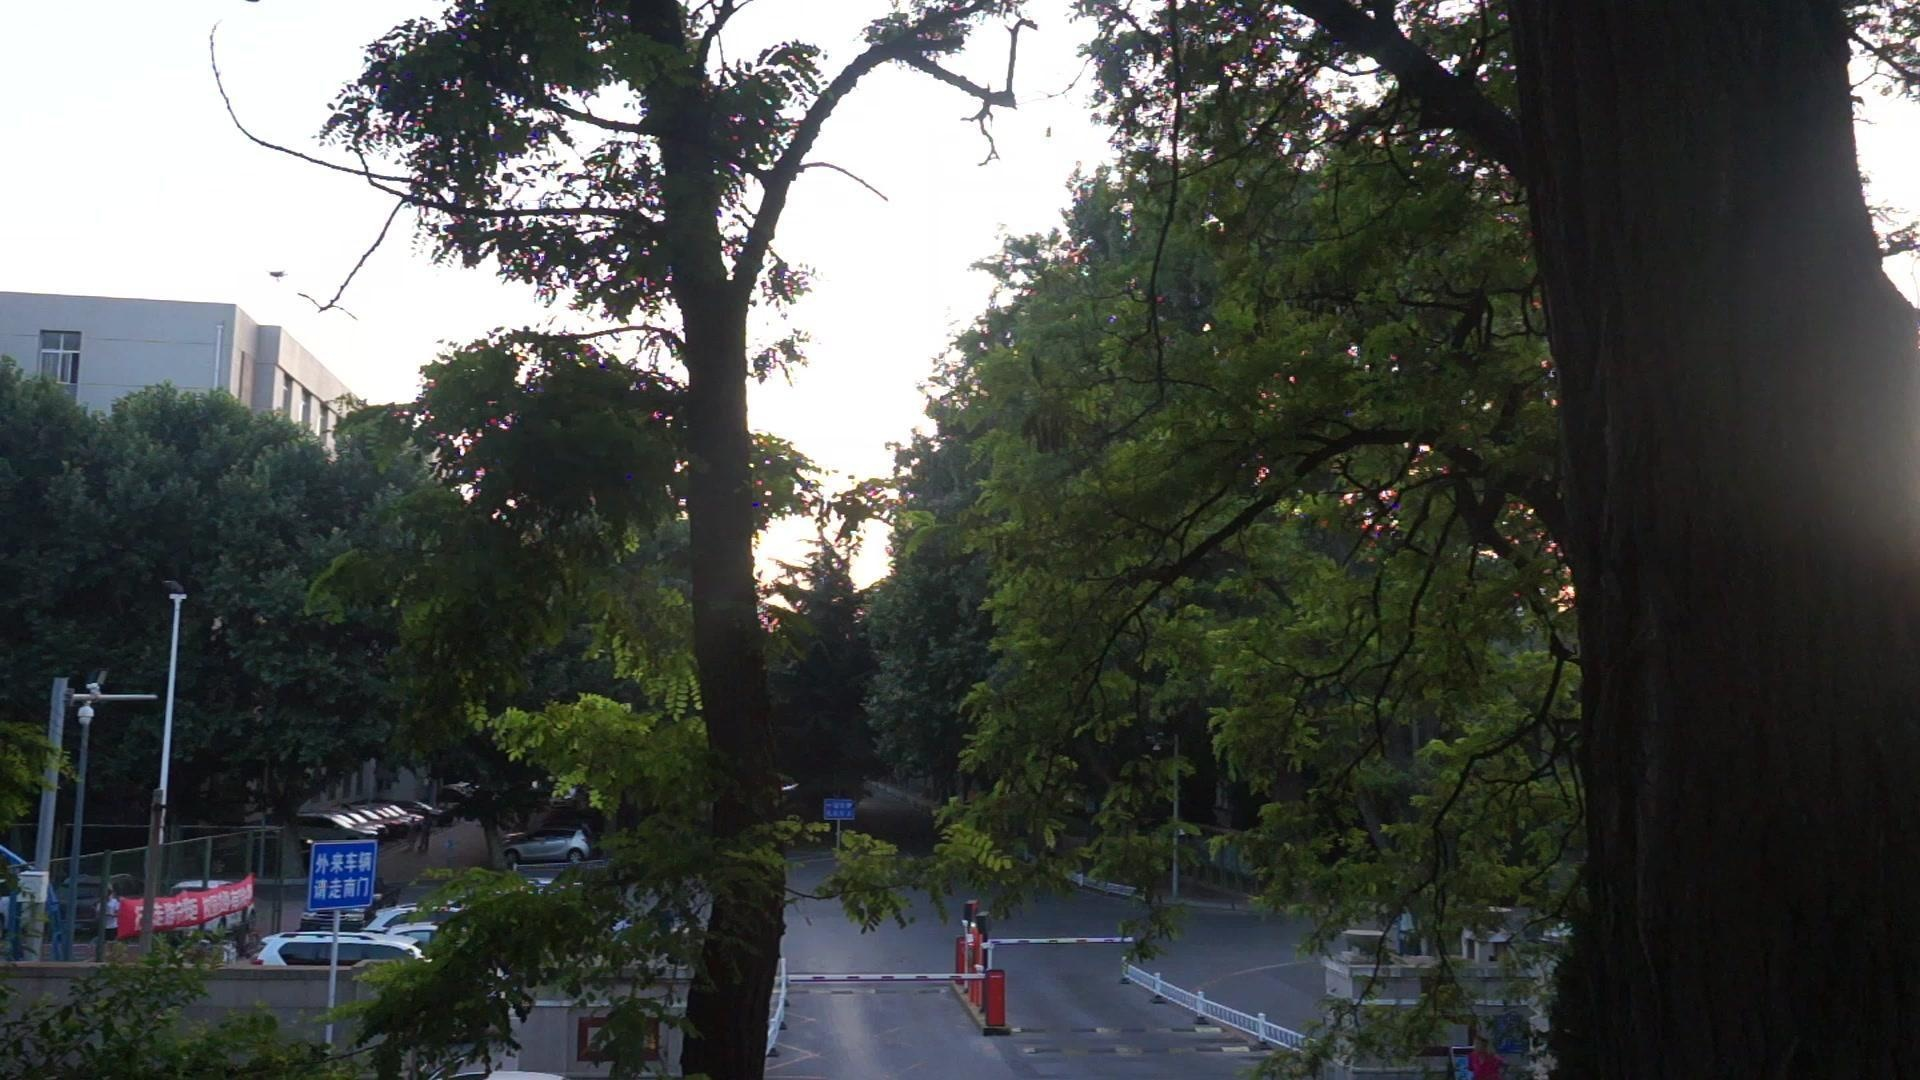UAV: (266, 270, 289, 284)
